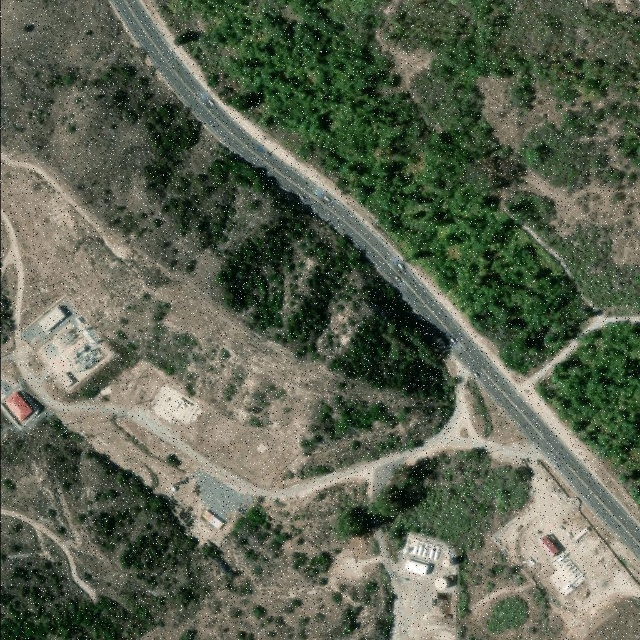vegetation: (154, 0, 640, 372), (41, 63, 455, 479), (0, 412, 256, 640), (335, 446, 536, 561), (535, 322, 640, 508), (228, 502, 333, 582), (484, 597, 529, 631)
